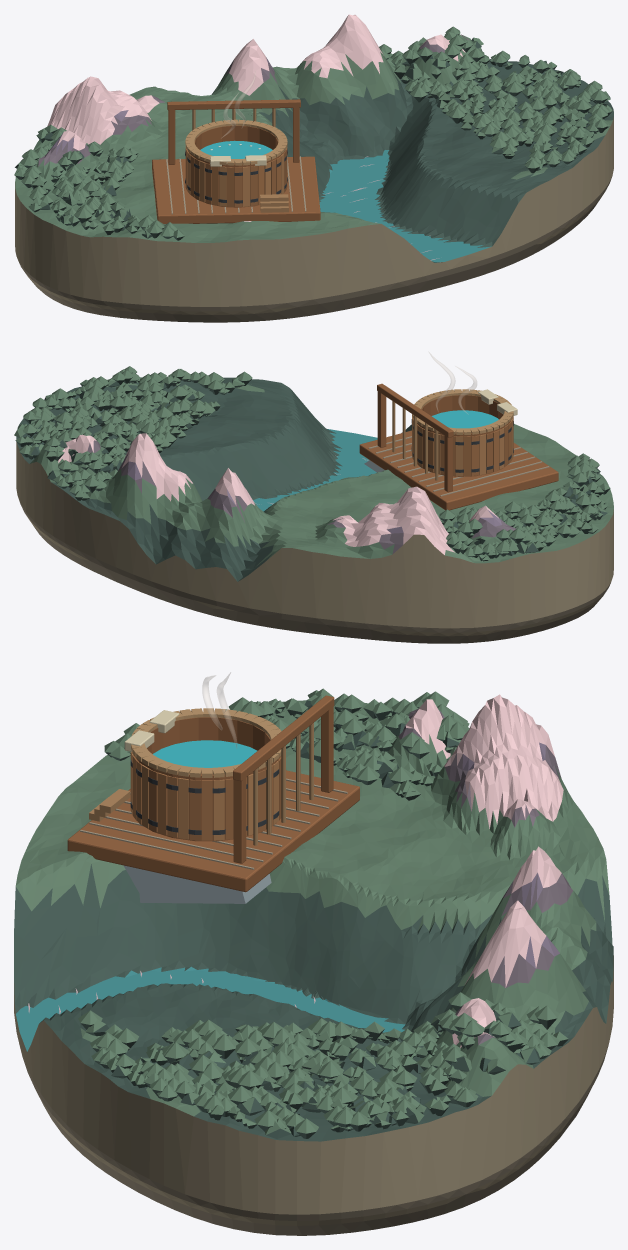
The model's file is onsen-evening.glb.
The picture shows the model from 3 angles, top to bottom: view 1: azimuth 30°, elevation 25°; view 2: azimuth 150°, elevation 25°; view 3: azimuth 270°, elevation 25°; orthographic projection. The views are drawn at different scales.
Visible parts, largest first — view 1: Sculpted shoreline and ridges, Shore planting and reflections, HotTub; view 2: Sculpted shoreline and ridges, Shore planting and reflections, HotTub; view 3: Sculpted shoreline and ridges, Shore planting and reflections, HotTub.
Boxes of the visible parts, bbox=[...] form: Sculpted shoreline and ridges: bbox=[15, 14, 613, 322]; Shore planting and reflections: bbox=[14, 26, 612, 260]; HotTub: bbox=[152, 99, 320, 223]; Sculpted shoreline and ridges: bbox=[16, 377, 613, 643]; Shore planting and reflections: bbox=[14, 366, 610, 561]; HotTub: bbox=[359, 383, 558, 510]; Sculpted shoreline and ridges: bbox=[14, 694, 613, 1235]; Shore planting and reflections: bbox=[28, 688, 568, 1138]; HotTub: bbox=[67, 695, 359, 903].
Size of the model in its own units: 9.44 by 3.15 by 5.7.
